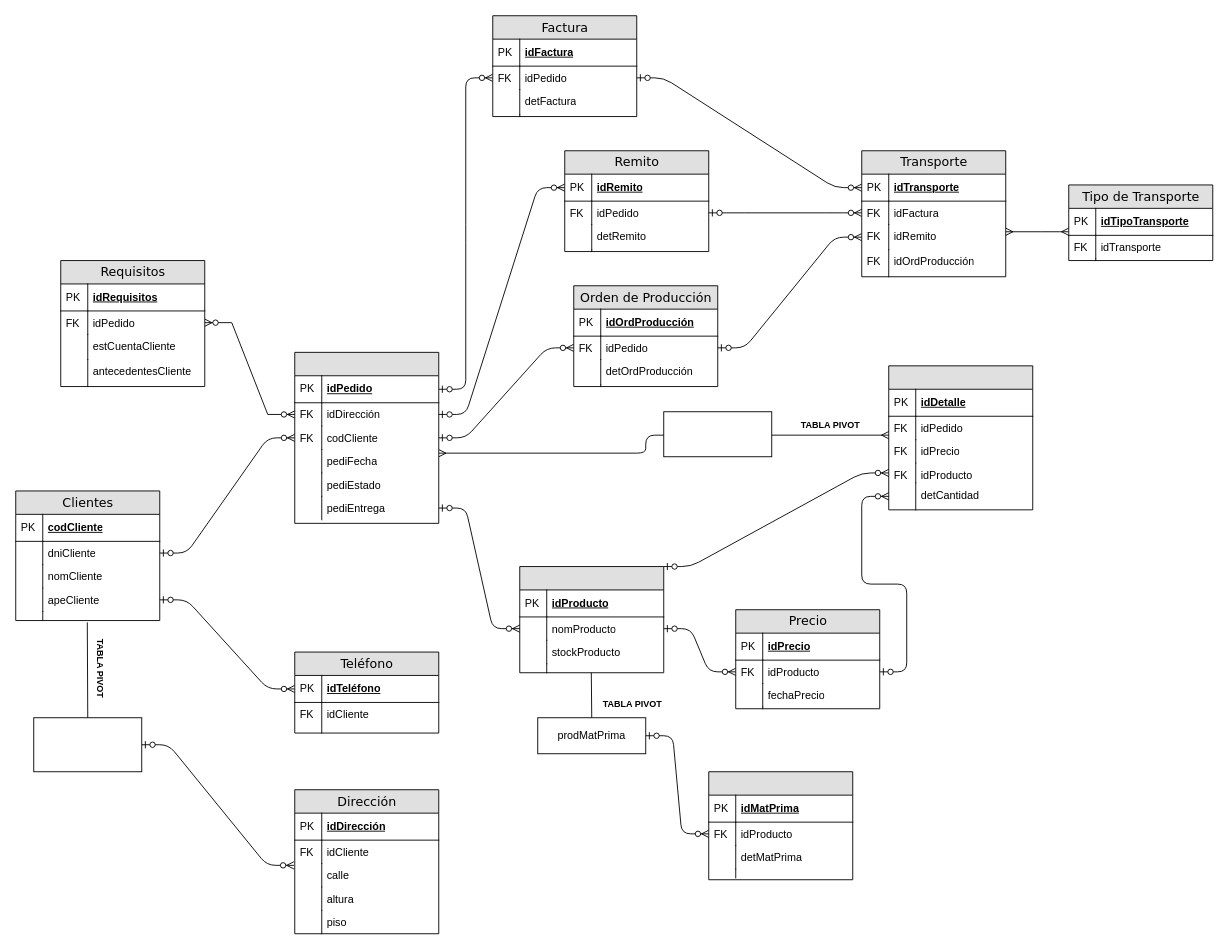
The diagram is 1229 pixels wide and 952 high, and some of its shapes have lost their labels. Each missing label, with the box of its shape:
clienteDirección: (33, 717, 142, 772)
Detalles de Pedido: (888, 365, 1033, 510)
Materia Prima: (708, 771, 853, 880)
pediDetalle: (663, 411, 772, 457)
Pedidos: (294, 351, 439, 523)
Productos: (519, 566, 664, 673)
